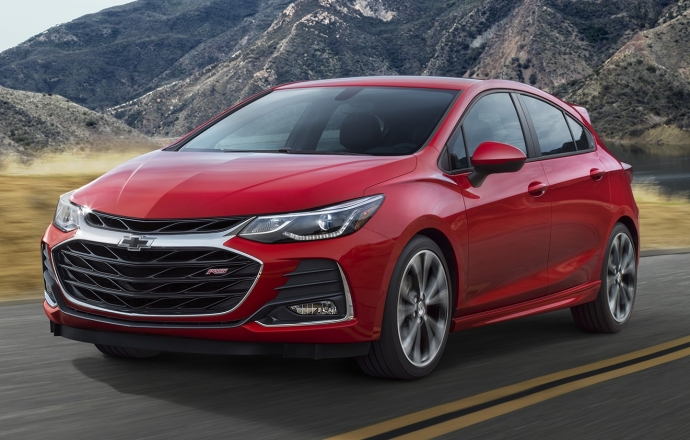sedan: (36, 72, 644, 379)
